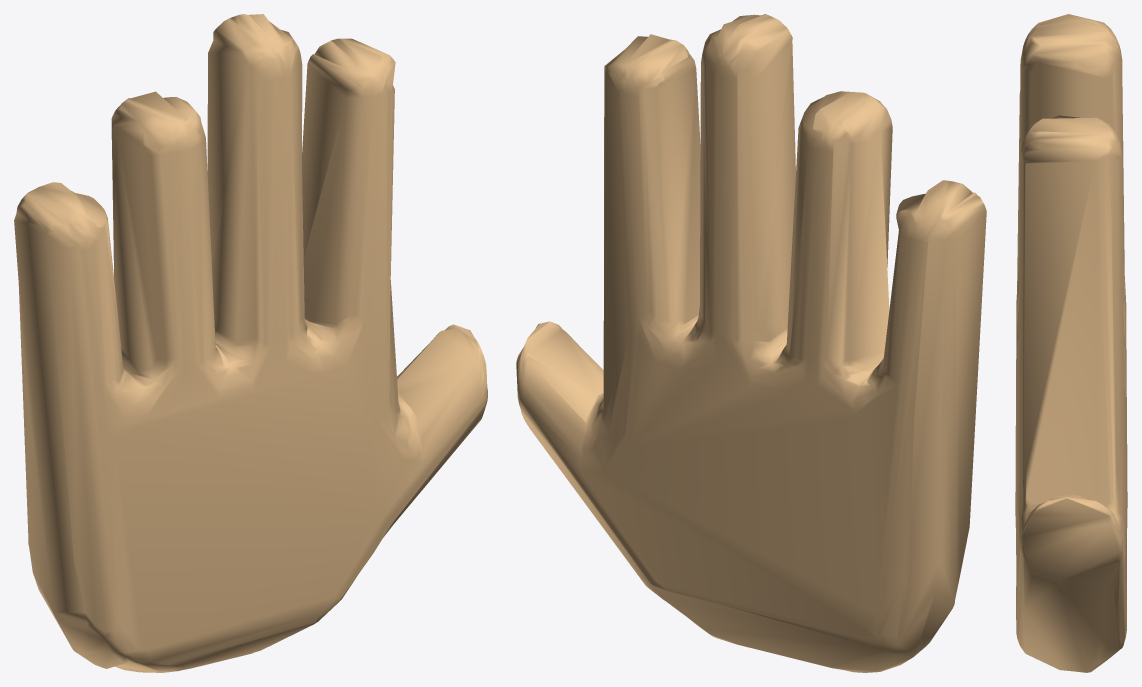
The model's file is hand_r.glb.
The picture shows the model from 3 angles, left to right: view 1: azimuth 30°, elevation 25°; view 2: azimuth 150°, elevation 25°; view 3: azimuth 270°, elevation 25°; orthographic projection. The views are drawn at different scales.
Parts seen in each view (by area): view 1: hand; view 2: hand; view 3: hand.
Boxes of the visible parts, box(x1,y1,x2,y2) form: hand: box(14, 14, 487, 672); hand: box(516, 14, 986, 672); hand: box(1015, 14, 1127, 672).
Size of the model in its own units: 2.46 by 3.33 by 0.529.
